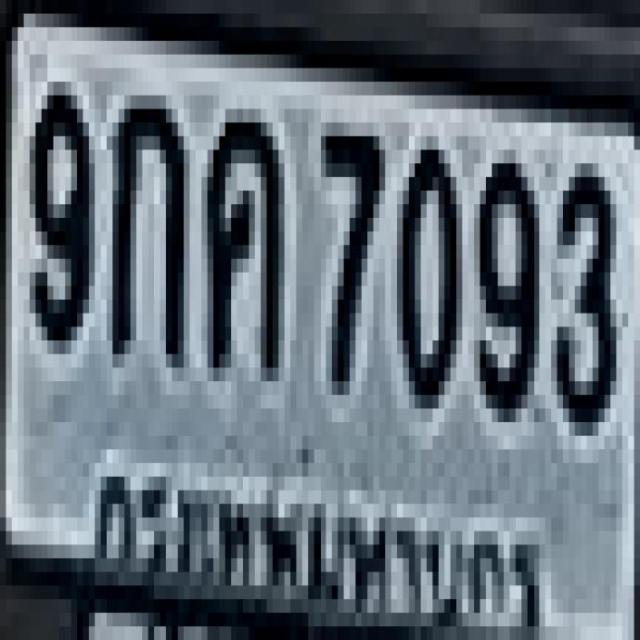0: (393, 131, 454, 394)
3: (550, 152, 611, 423)
7: (318, 113, 379, 382)
9: (472, 149, 533, 408), (27, 75, 86, 341)
A01: (107, 84, 180, 352)
A04: (202, 99, 278, 368)
BKK: (82, 452, 549, 630)
